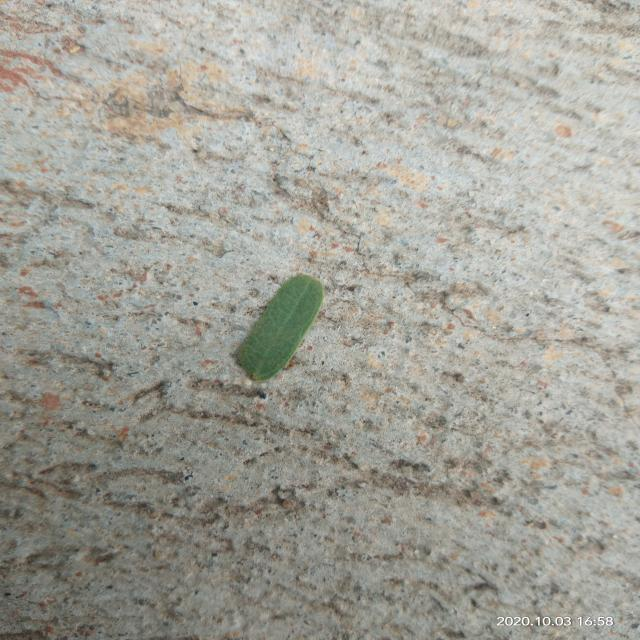tamarind: (238, 275, 323, 381)
